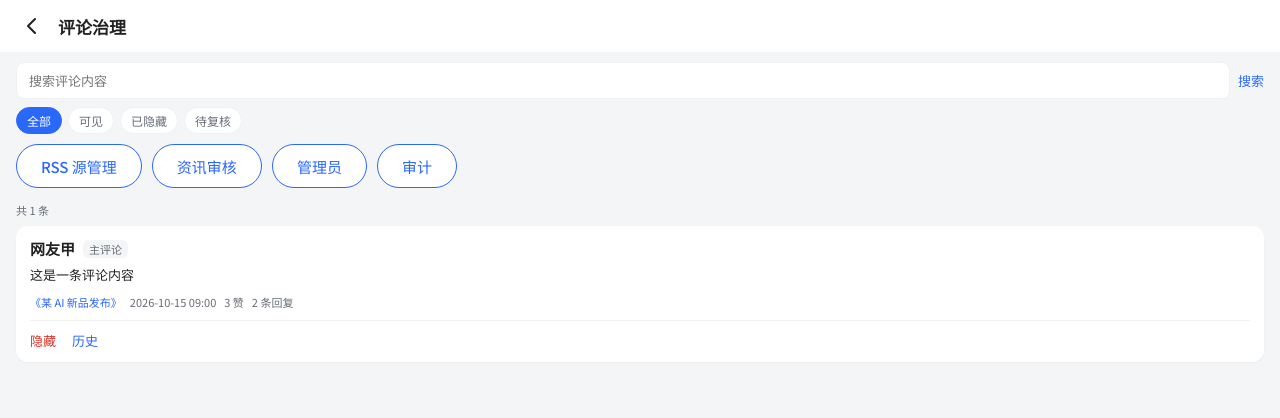
Test: views/AdminComments 筛选与搜索 › 点行内资讯标签按文章过滤：带 newsId 重新请求并出现提示条
Click the button with class "admin__newschip": click(76, 302) [30,294,122,310]
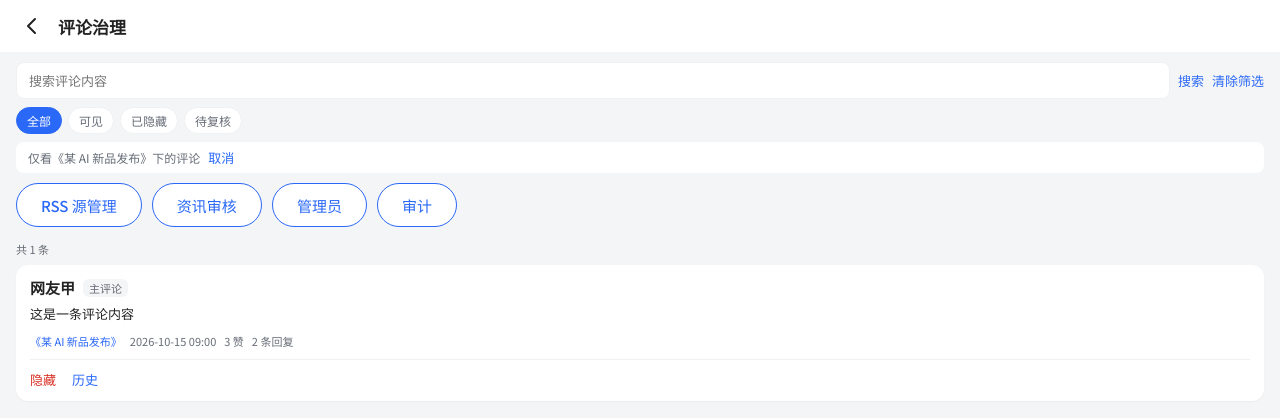
Expected: the text "仅看《某 AI 新品发布》下的评论" is shown, [28,149,200,166]
Click the button with class "admin__newschip": click(76, 341) [30,333,122,349]
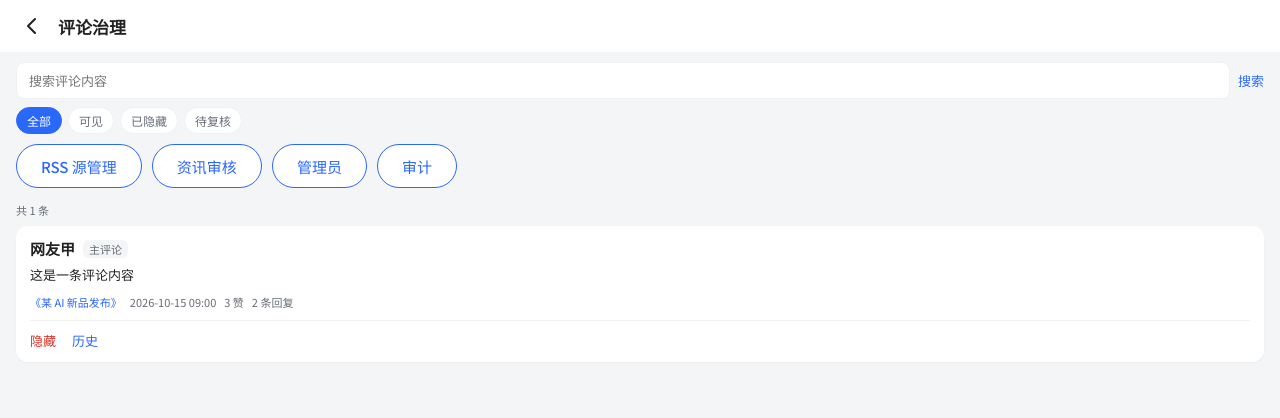
Expected: the text "仅看《" is gone
